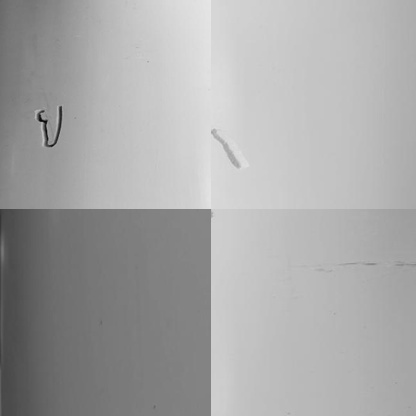fengxi: (31, 101, 71, 158)
sunshang: (210, 125, 253, 170)
